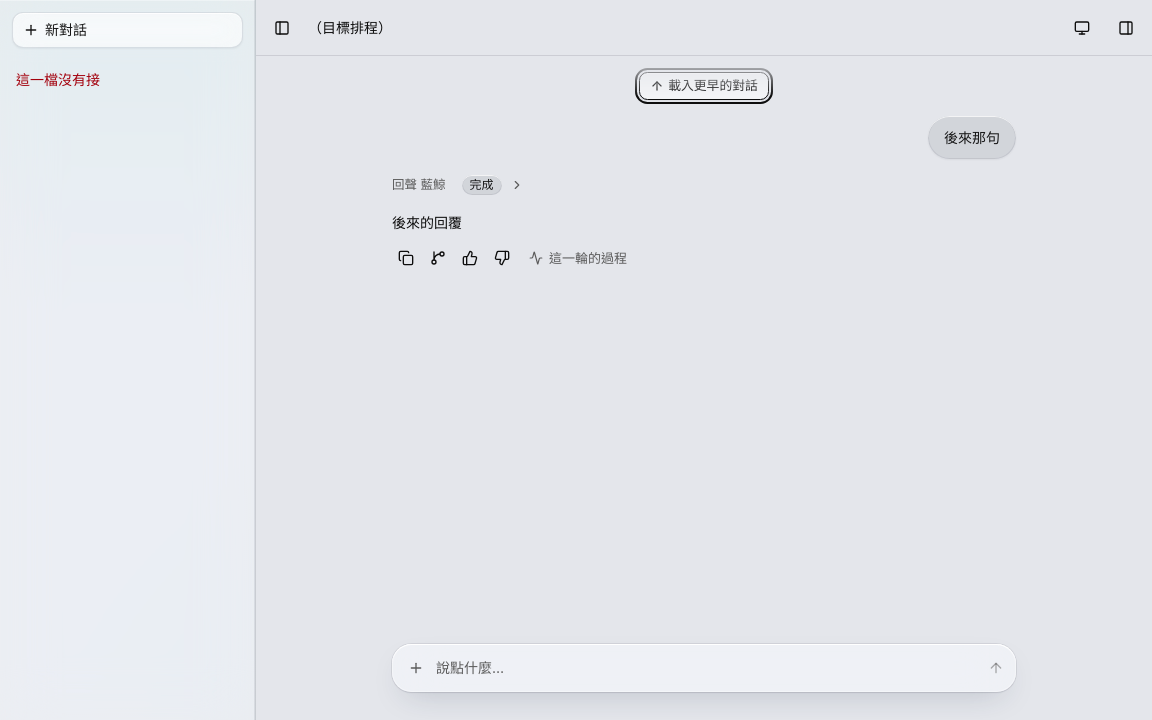
Test: 往前翻：自動載入、讀取中、失敗與報讀 › 鍵盤按往前翻、還有更早的（#2009）：讀完鈕還在，焦點不動
Expected: the text "後來的回覆" is shown, [392, 211, 462, 234]
Click the button "載入更早的對話" at (704, 86), box [639, 72, 769, 100]
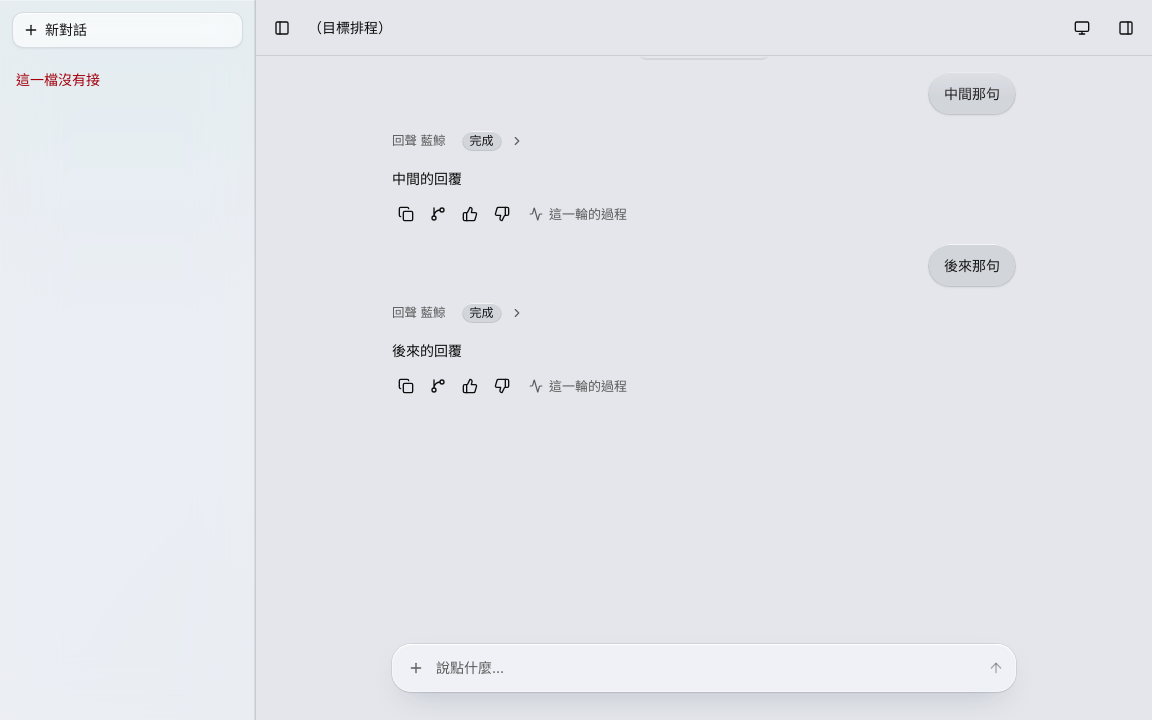
Result: the text "中間的回覆" is shown at [392, 167, 462, 190]
